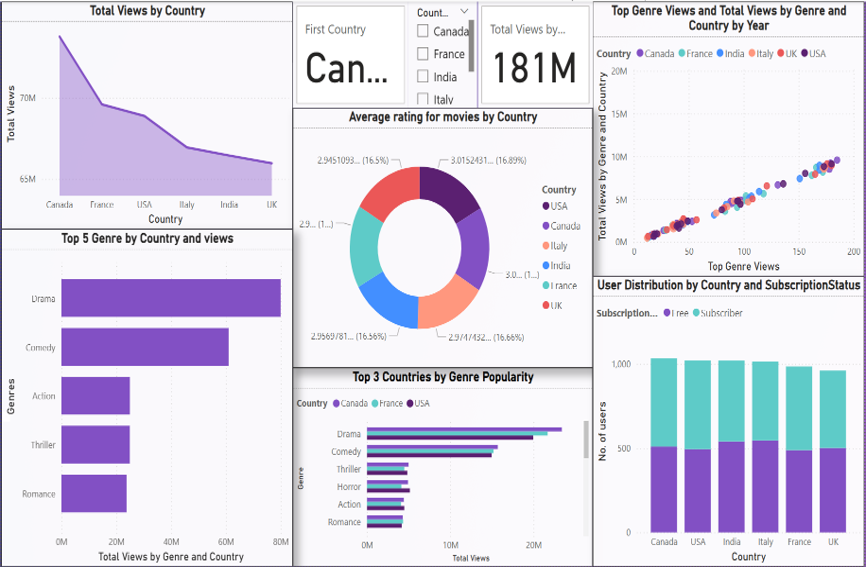

The dashboard page shown, as its layout file describes it:
{"tool":"powerbi","page":{"name":"Countries","canvas":[1280,720],"ordinal":2},"visuals":[{"type":"clusteredBarChart","title":"Top 3 Countries by Genre Popularity","fields":{"Y":["Sum(movies_genere.Views)"],"Category":["movies_genere.Genres"],"Series":["Users_cleaned.Country"]},"box":[432.2,419.6,444.8,300.8],"z":0},{"type":"scatterChart","title":"Top Genre Views and Total Views by Genre and Country by Year ","fields":{"Category":["movies_genere.Genres","Cleaned_Rating_Dataset.Year"],"Series":["Users_cleaned.Country"],"Y":["movies_cleaned.Total Views by Genre and Country"],"X":["movies_genere.Top Genre Views"]},"box":[877.1,0,402.8,350.2],"z":1000},{"type":"areaChart","title":"Total Views by Country","fields":{"Category":["Users_cleaned.Country"],"Y":["Cleaned_Rating_Dataset.Total Views by Country"]},"box":[0,0,432.2,290.2],"z":2000},{"type":"donutChart","title":"Average rating for movies by Country","fields":{"Category":["Users_cleaned.Country","movies_genere.MovieID"],"Y":["Avg(Cleaned_Rating_Dataset.Rating)"]},"box":[432.2,135.7,444.8,283.9],"z":3000},{"type":"cardVisual","fields":{"Data":["Min(Users_cleaned.Country)"]},"box":[432.2,0,171.4,135.7],"z":4000},{"type":"cardVisual","fields":{"Data":["Cleaned_Rating_Dataset.Total Views by Country"]},"box":[706.7,0,170.4,135.7],"z":5000},{"type":"columnChart","title":"User Distribution by Country and SubscriptionStatus","fields":{"Category":["Users_cleaned.Country"],"Y":["Count(Users_cleaned.UserID)"],"Series":["Users_cleaned.SubscriptionStatus"]},"box":[877.1,350.2,402.8,370.2],"z":6000},{"type":"scorecard","box":[0,522.7,12.6,12.6],"z":7000},{"type":"barChart","title":"Top 5 Genre by Country and views","fields":{"Category":["Users_cleaned.Country","movies_genere.Genres"],"Y":["movies_cleaned.Total Views by Genre and Country"]},"box":[0,290.2,432.2,430.1],"z":8000},{"type":"slicer","fields":{"Values":["movies_cleaned.Country"]},"box":[603.6,0,102,135.7],"z":9000}]}

Visuals, with their boxes on the page's 1280x720 design canvas (x1, y1, x2, y2). These are canvas units, not pixel positions in the 866x567 screenshot, which may show the page scaled, cropped or inside an application window:
"Top 3 Countries by Genre Popularity" clusteredBarChart: x1=432, y1=420, x2=877, y2=720
"Top Genre Views and Total Views by Genre and Country by Year " scatterChart: x1=877, y1=0, x2=1280, y2=350
"Total Views by Country" areaChart: x1=0, y1=0, x2=432, y2=290
"Average rating for movies by Country" donutChart: x1=432, y1=136, x2=877, y2=420
cardVisual - Min(Users_cleaned.Country): x1=432, y1=0, x2=604, y2=136
cardVisual - Cleaned_Rating_Dataset.Total Views by Country: x1=707, y1=0, x2=877, y2=136
"User Distribution by Country and SubscriptionStatus" columnChart: x1=877, y1=350, x2=1280, y2=720
scorecard: x1=0, y1=523, x2=13, y2=535
"Top 5 Genre by Country and views" barChart: x1=0, y1=290, x2=432, y2=720
slicer - movies_cleaned.Country: x1=604, y1=0, x2=706, y2=136
